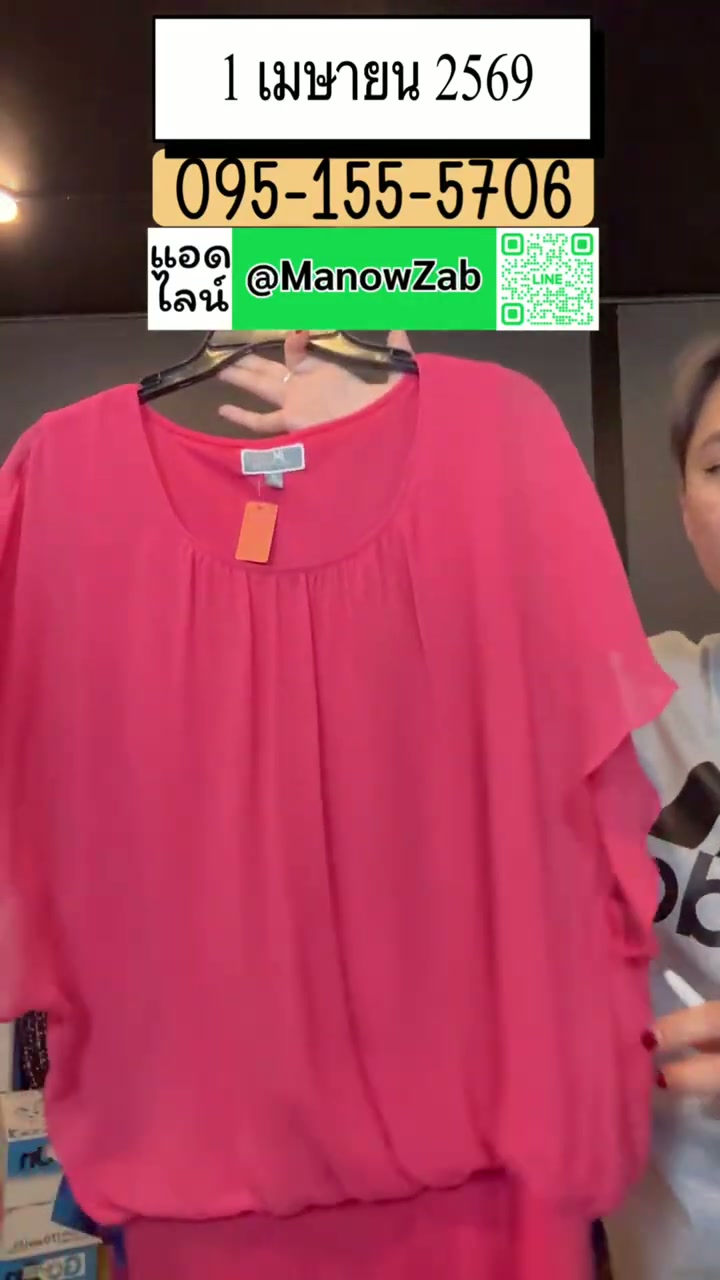display_shirt: (0, 354, 672, 1279)
